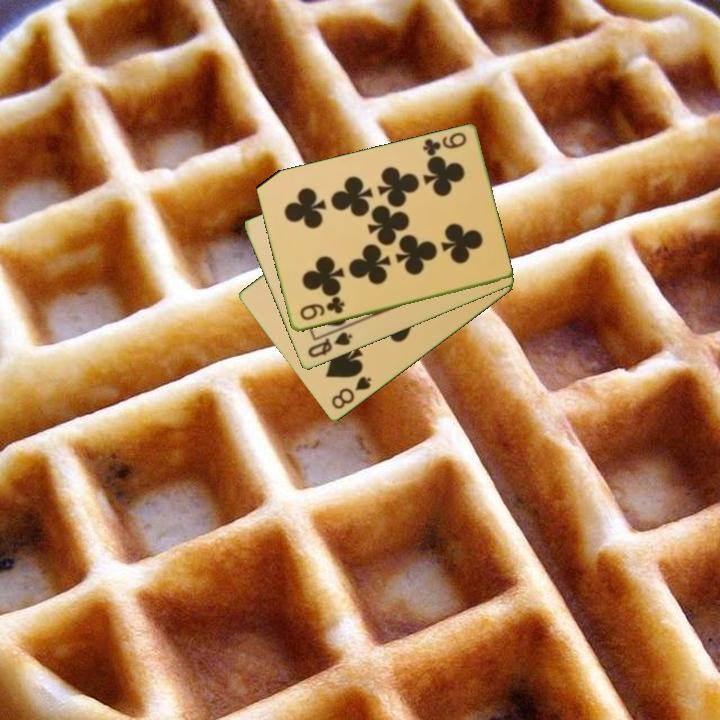8s: (328, 373, 374, 413)
9c: (419, 129, 469, 159), (296, 295, 347, 324)
Qs: (304, 329, 355, 361)
